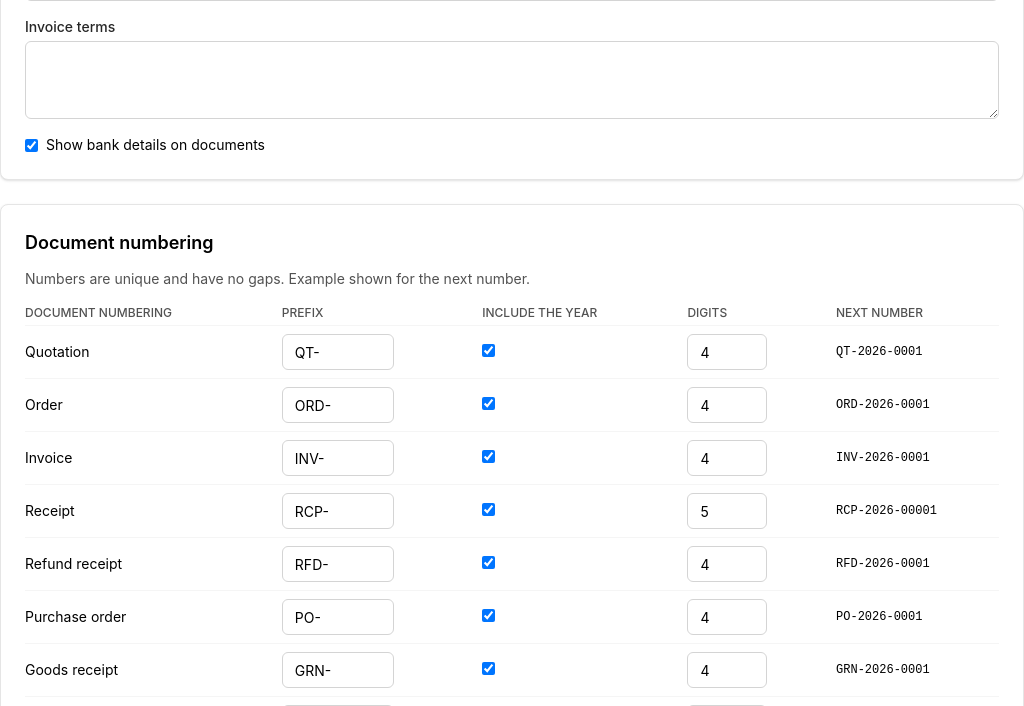
Test: BusinessForm (task 14) › shows what each document number will look like and updates it as the format is edited
(page scrolled)
Expected: the text "QT-2026-0001" is shown, [836, 326, 999, 378]
Replace the text in the field named "Quotation Prefix" with "Q/" at [338, 352], box [282, 334, 394, 370]
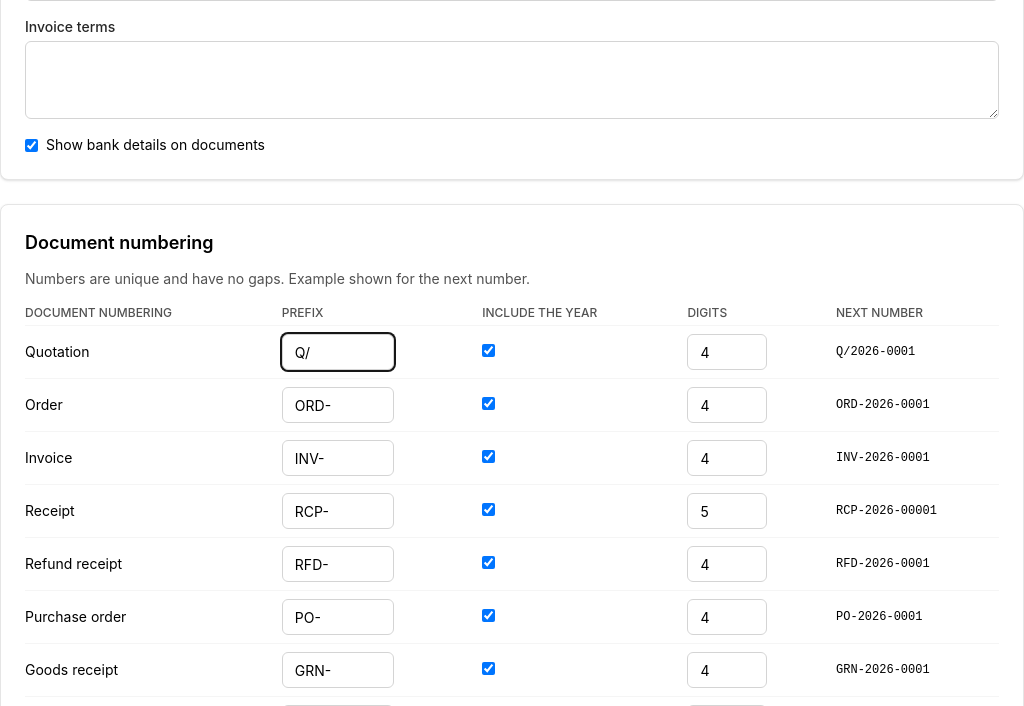
Click the checkbox named "Quotation Include the year".
click(489, 350)  # box [482, 344, 495, 357]
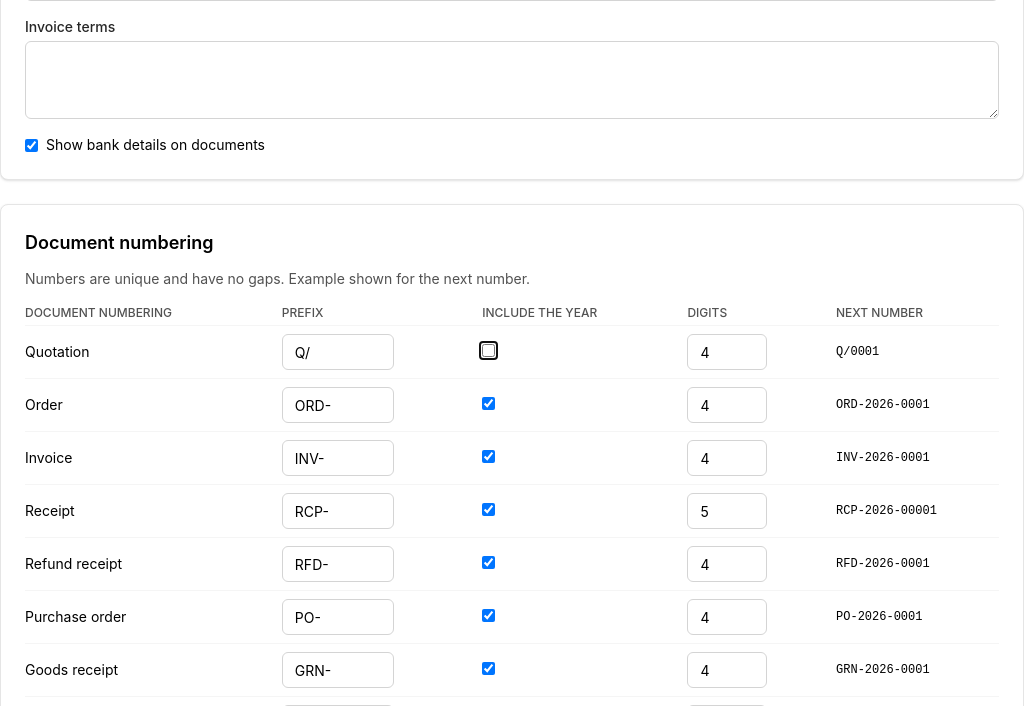
Expected: the text "Q/0001" is shown, [836, 326, 999, 378]
